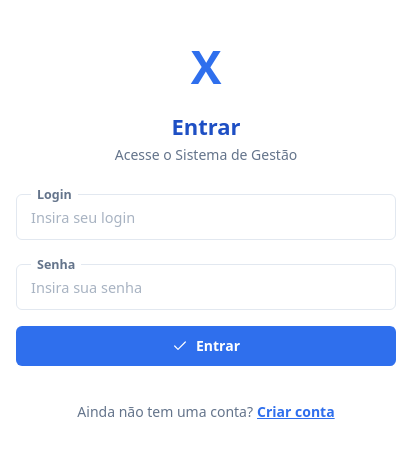
it: LoginPage › deve alternar entre os modos de login e registro
Expected: the heading "Entrar" is shown, [171,111,241,141]
Click the button "Criar conta".
click(296, 412)  # box [257,402,335,421]
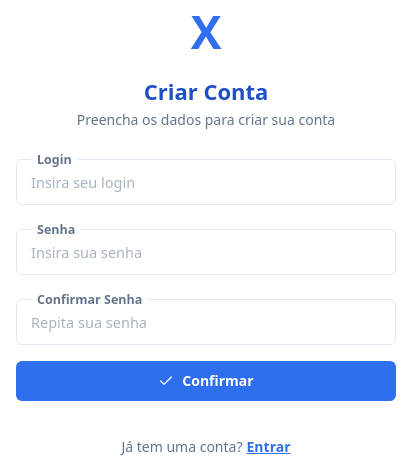
Now the heading "Criar Conta" is shown, box [144,76,268,106]
Now the password field with placeholder "Repita sua senha" is shown, box [31,308,381,334]
Click the button "Entrar".
click(268, 446)  # box [246,437,290,456]
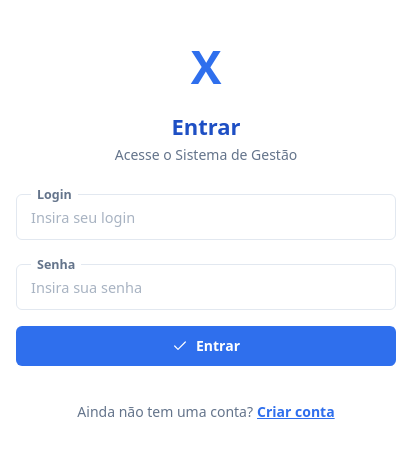
Now the heading "Entrar" is shown, box [171,111,241,141]
